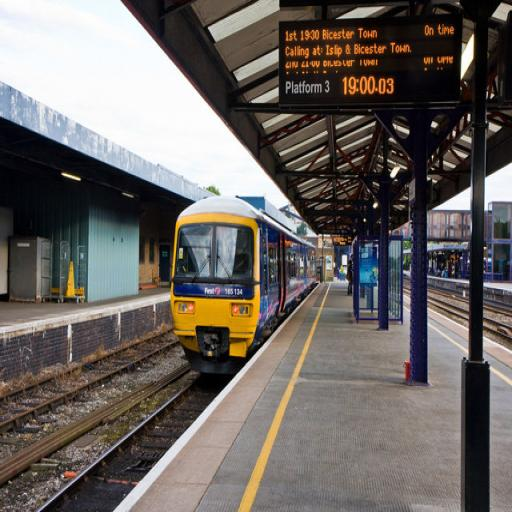platform_edge: (178, 300, 304, 512)
